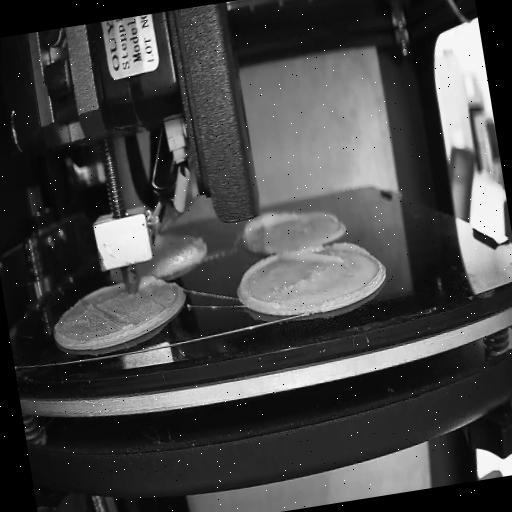over_extrusion: (281, 234, 371, 276), (234, 253, 283, 300), (241, 210, 302, 238), (136, 270, 162, 290)
